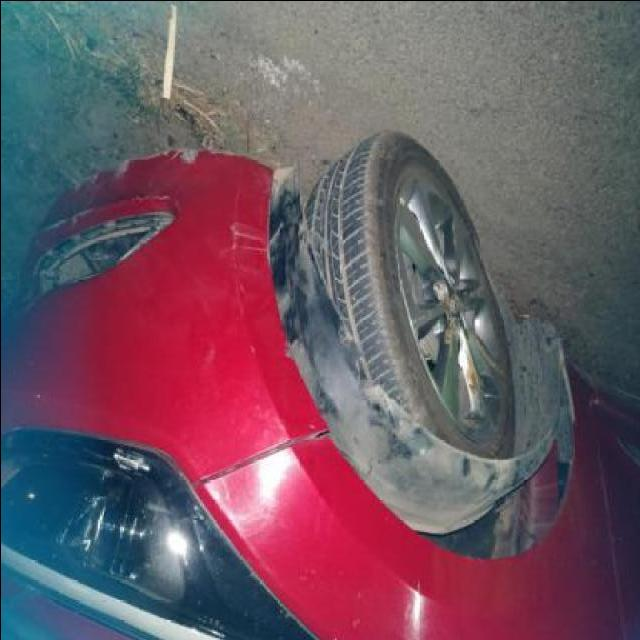front-bumper-dent: (0, 153, 321, 457)
